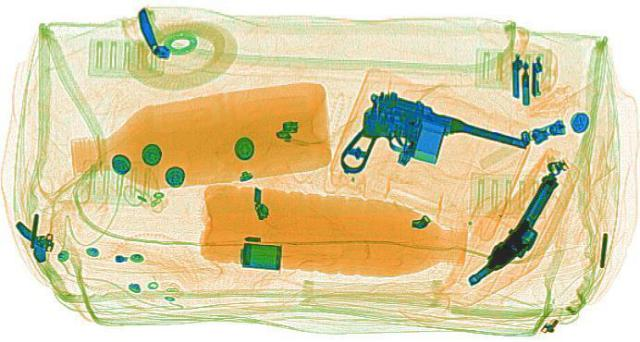Gun: (284, 85, 540, 203), (462, 158, 586, 287)
